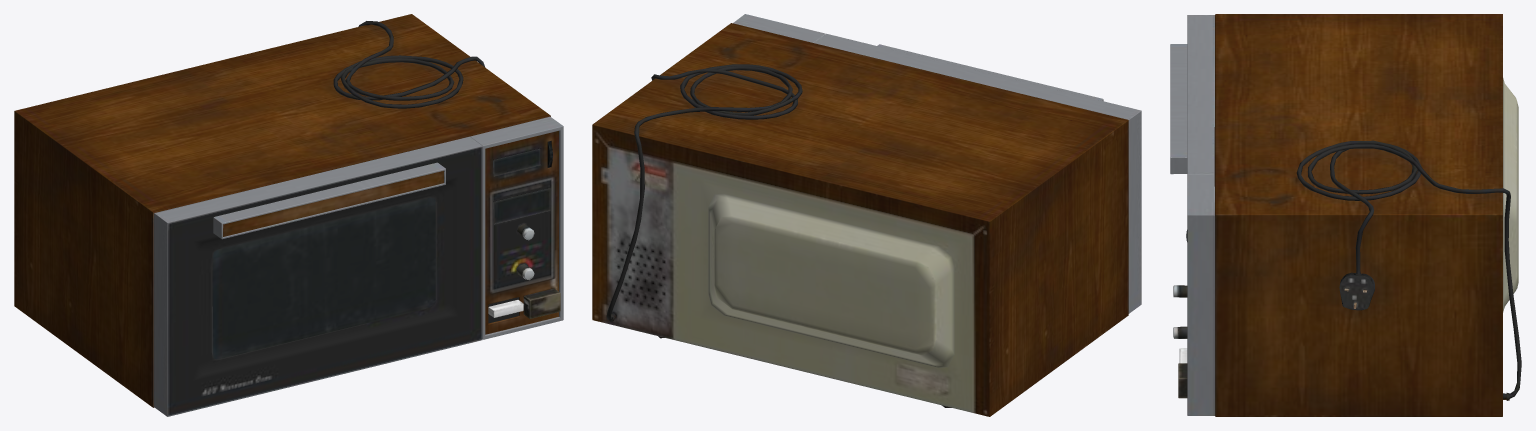
File: microwave.glb
3 renders of one model, left to right at view 1: azimuth 30°, elevation 25°; view 2: azimuth 150°, elevation 25°; view 3: azimuth 270°, elevation 25°, orthographic. The views are drawn at different scales.
Size of the model in its own units: 1.07 by 0.5258 by 0.745.
2 materials, 2 textured.
